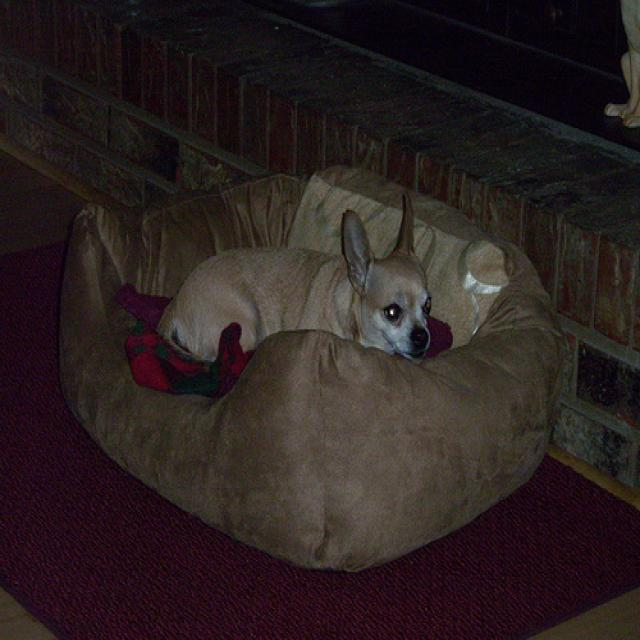dog: (157, 208, 458, 390)
